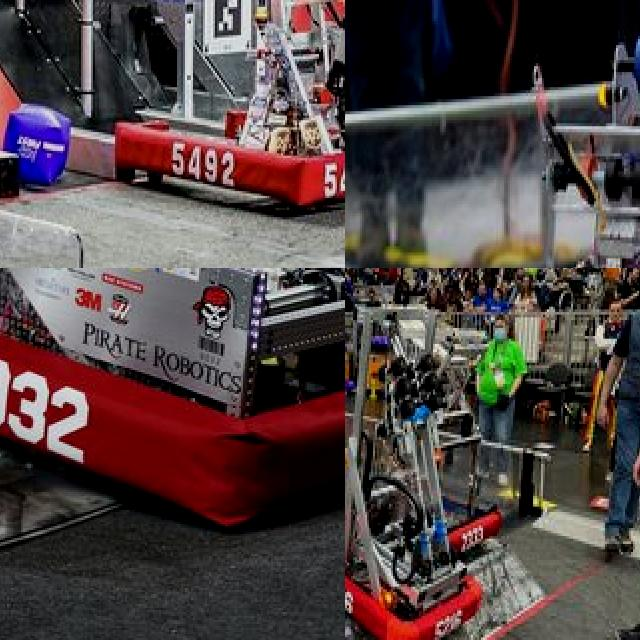FRC-Robots: (0, 268, 345, 594), (26, 0, 345, 213), (461, 30, 640, 268), (415, 289, 549, 560), (345, 367, 478, 640)
